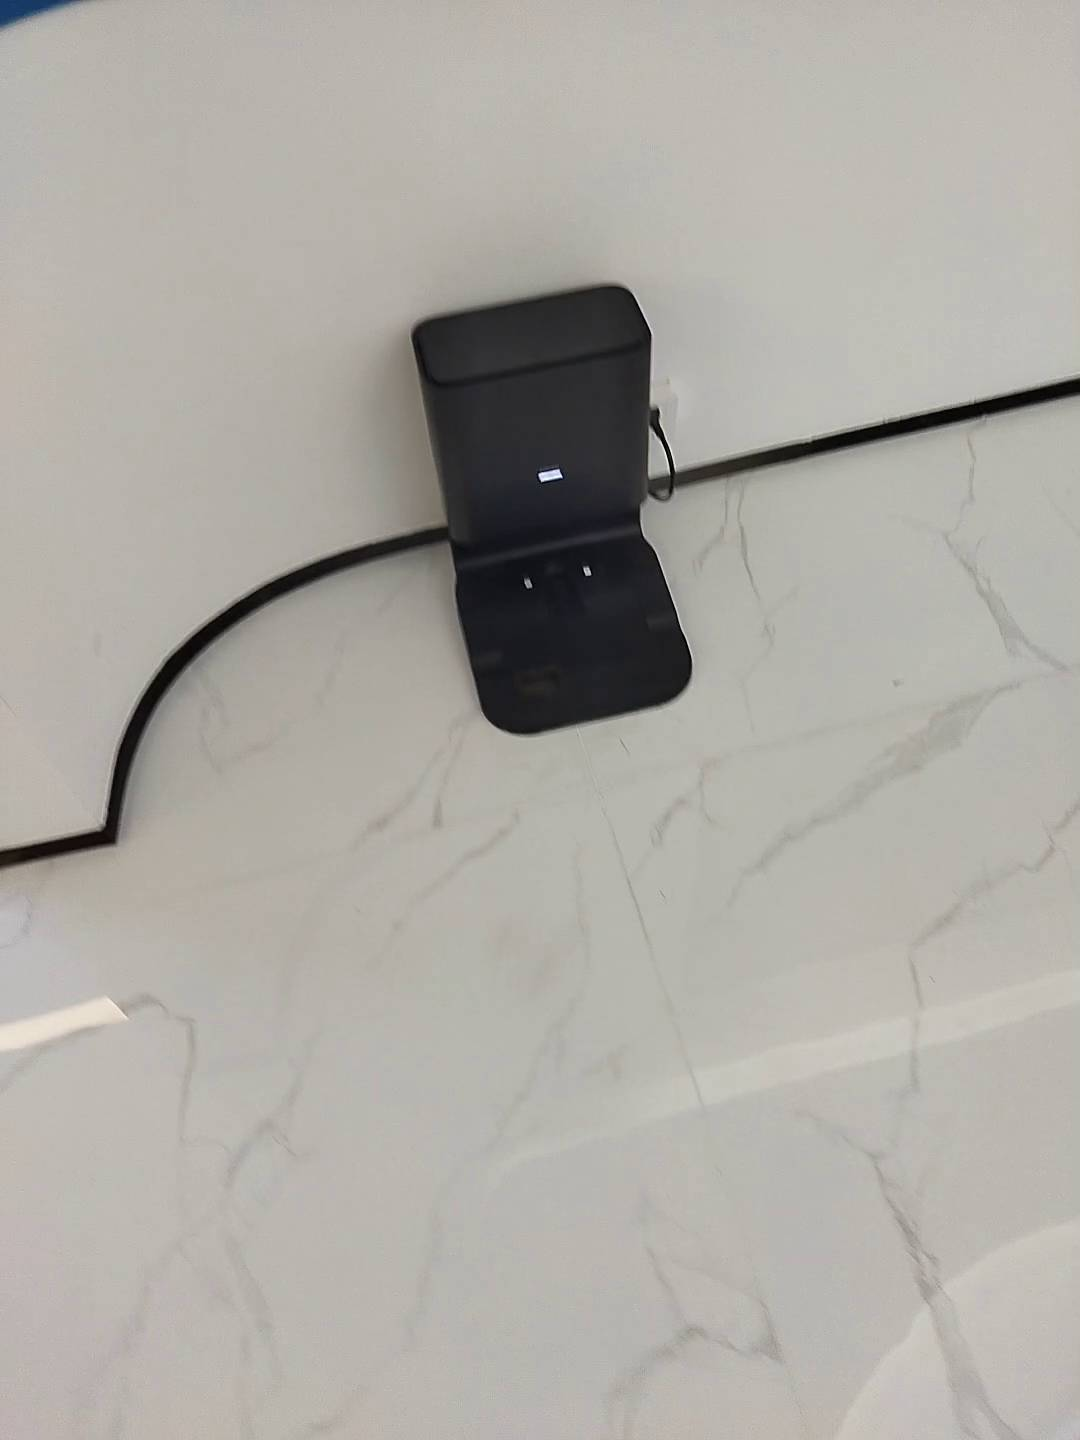dust collecting barrel: (411, 282, 695, 737)
